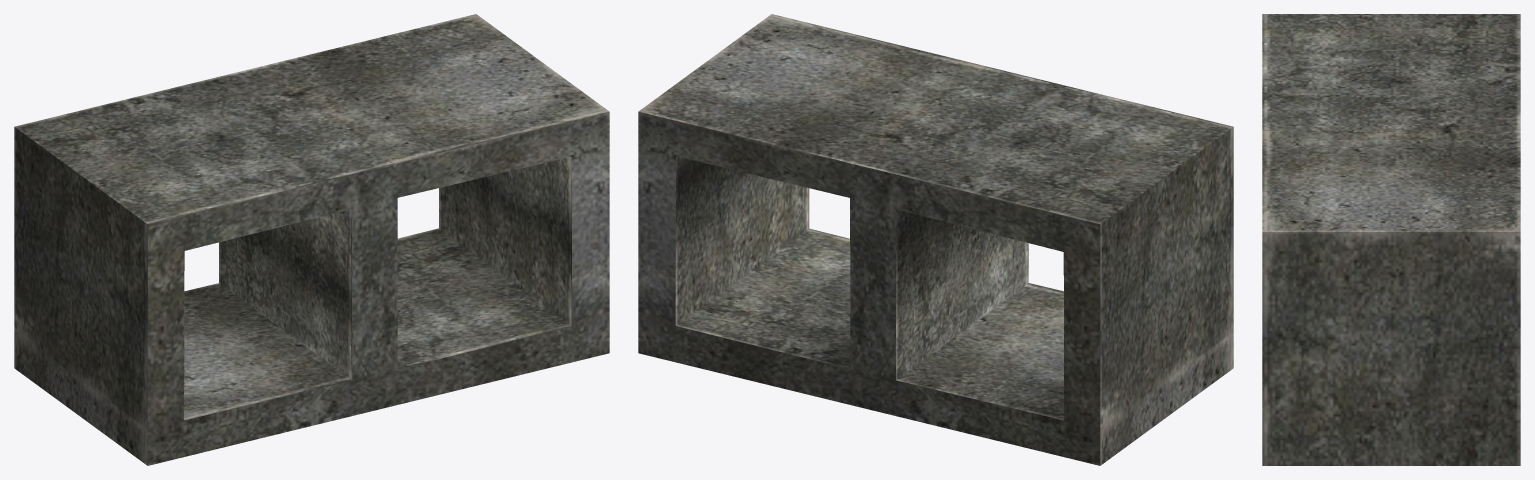
The model's file is p_glo_cinder_block_big_lod3.glb.
3 renders of one model, left to right at view 1: azimuth 30°, elevation 25°; view 2: azimuth 150°, elevation 25°; view 3: azimuth 270°, elevation 25°, orthographic. The views are drawn at different scales.
Visible parts, largest first — view 1: p_glo_cinder_block_lod3; view 2: p_glo_cinder_block_lod3; view 3: p_glo_cinder_block_lod3.
Part boxes in pixels (<box>): p_glo_cinder_block_lod3: <box>14,14,609,465</box>; p_glo_cinder_block_lod3: <box>638,14,1233,465</box>; p_glo_cinder_block_lod3: <box>1262,14,1520,465</box>.
Bounding box in the file's own units: 24 × 12 × 12.
1 material, 1 textured.
